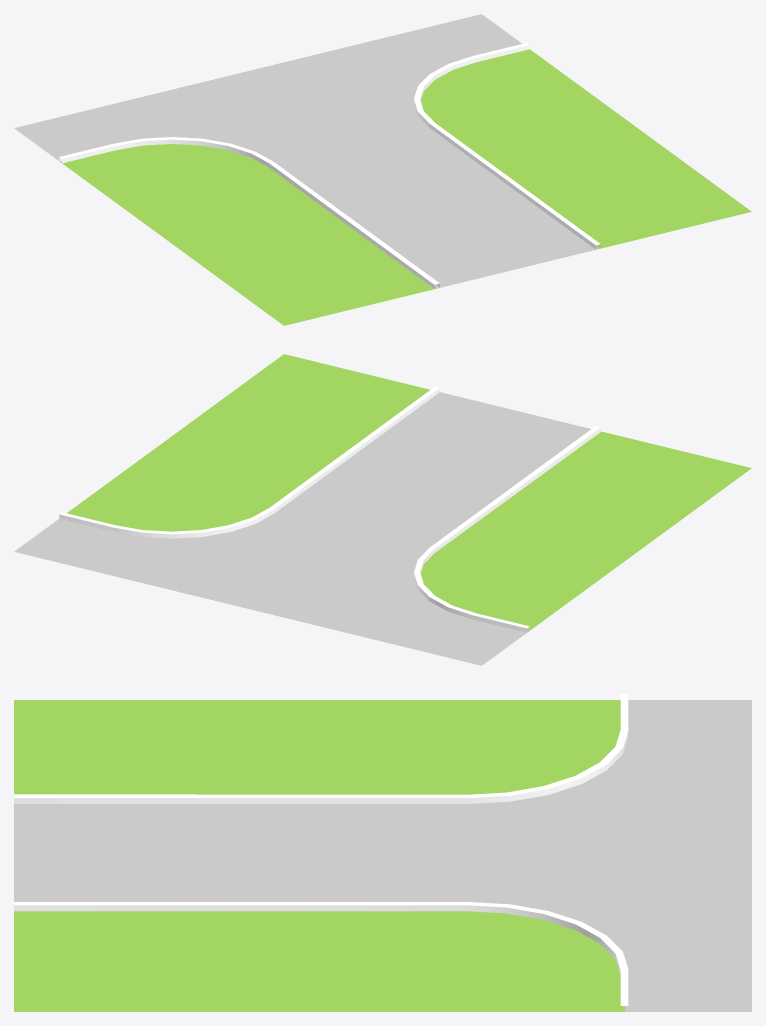
The model's file is Sidewalk_29.glb.
3 renders of one model, top to bottom at view 1: azimuth 30°, elevation 25°; view 2: azimuth 150°, elevation 25°; view 3: azimuth 270°, elevation 25°, orthographic. The views are drawn at different scales.
Parts seen in each view (by area): view 1: Sidewalk_29; view 2: Sidewalk_29; view 3: Sidewalk_29.
Boxes of the visible parts, bbox=[...] form: Sidewalk_29: bbox=[14, 14, 751, 325]; Sidewalk_29: bbox=[14, 354, 751, 665]; Sidewalk_29: bbox=[14, 694, 751, 1011].
Size of the model in its own units: 15 by 0.1333 by 15.
1 material, 1 textured.
